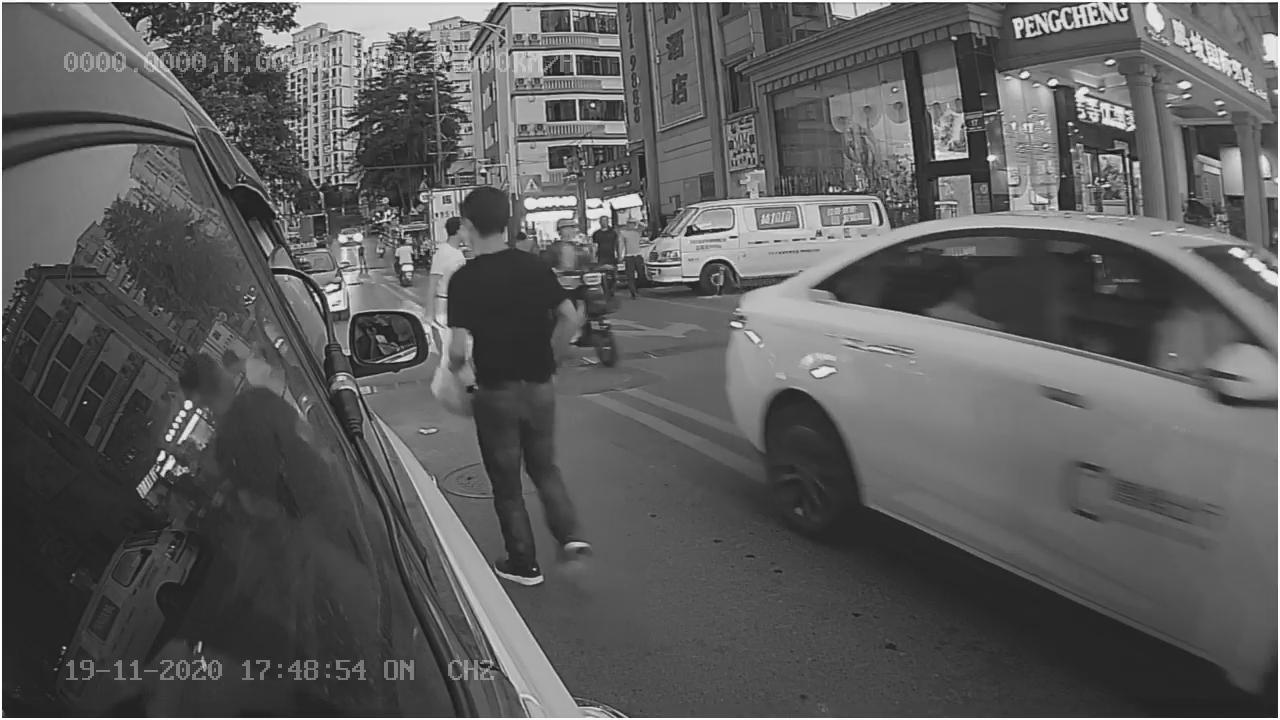person: (439, 186, 576, 496)
